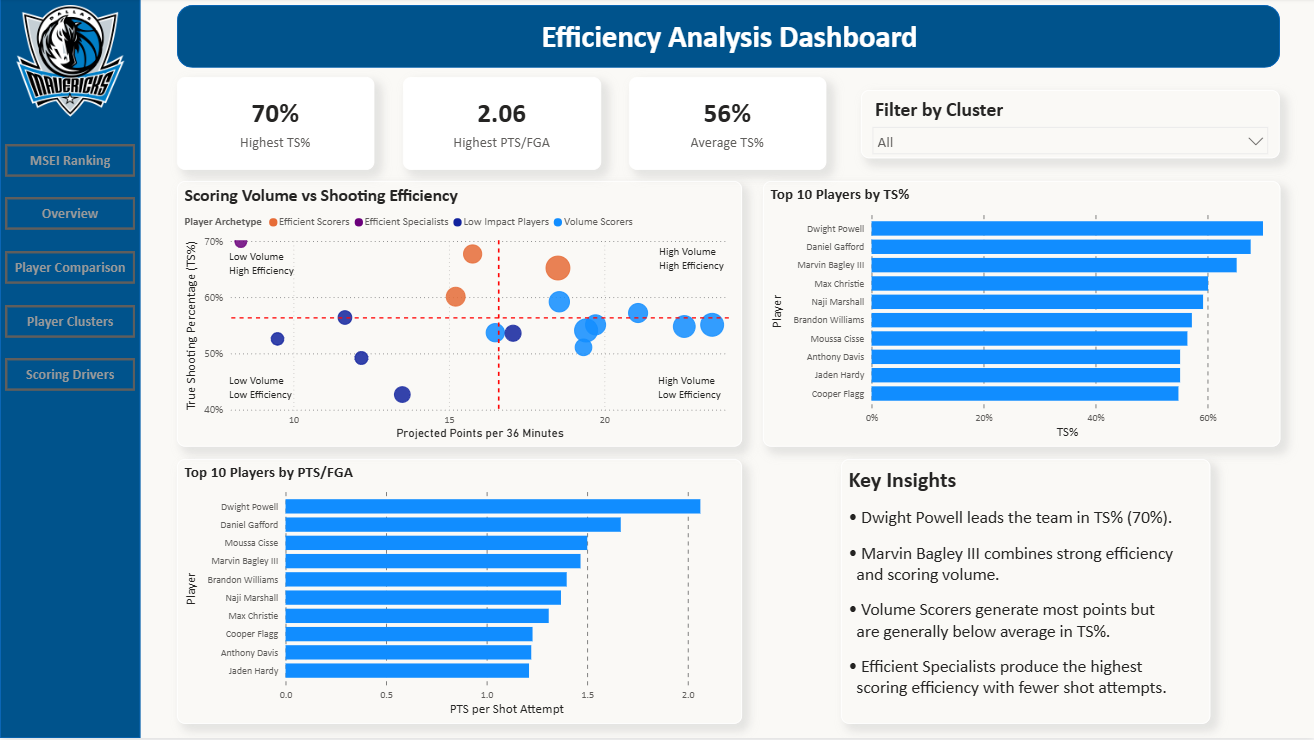

The page's visual inventory and layout, read from the dashboard file:
{"tool":"powerbi","page":{"name":"Efficiency Analysis","canvas":[1600,900],"ordinal":2},"visuals":[{"type":"shape","box":[0,0,170.7,900],"z":0},{"type":"image","box":[5.5,8.9,158.5,136.3],"z":1000},{"type":"actionButton","box":[5.5,177.3,158.5,39.9],"z":2000},{"type":"actionButton","box":[5.5,242.5,158.5,39.9],"z":3000},{"type":"actionButton","box":[5.5,307.6,158.5,39.9],"z":4000},{"type":"actionButton","box":[5.5,372.7,158.5,39.9],"z":5000},{"type":"actionButton","box":[5.5,437.8,158.5,39.9],"z":6000},{"type":"shape","box":[215,8.9,1341.1,76.5],"z":7000},{"type":"textbox","box":[227.2,17.7,1319,59.9],"z":8000},{"type":"cardVisual","fields":{"Data":["mavericks_scoring_efficiency_dashboard.Highest TS%"]},"box":[215.2,96,239.5,113.1],"z":9000},{"type":"cardVisual","fields":{"Data":["mavericks_scoring_efficiency_dashboard.Highest PTS/FGA"]},"box":[489.4,96,240.7,113.1],"z":10000},{"type":"cardVisual","fields":{"Data":["mavericks_scoring_efficiency_dashboard.Avg TS%"]},"box":[764.7,96,239.5,113.1],"z":11000},{"type":"scatterChart","title":"Scoring Volume vs Shooting Efficiency","fields":{"X":["Avg(mavericks_scoring_efficiency_dashboard.Projected_PTS_36)"],"Y":["Avg(mavericks_scoring_efficiency_dashboard.TS%)"],"Size":["Sum(mavericks_scoring_efficiency_dashboard.MSEI)"],"Series":["mavericks_scoring_efficiency_dashboard.Cluster_Name"],"Category":["mavericks_scoring_efficiency_dashboard.Player"]},"box":[215.2,222.5,686.9,323.4],"z":12000},{"type":"textbox","box":[796.4,293,90,54.7],"z":13000},{"type":"textbox","box":[795.1,449.8,90,54.7],"z":14000},{"type":"textbox","box":[273.6,449.8,90,54.7],"z":15000},{"type":"textbox","box":[273.6,299.1,90,54.7],"z":16000},{"type":"clusteredBarChart","title":"Top 10 Players by TS%","fields":{"Category":["mavericks_scoring_efficiency_dashboard.Player"],"Y":["Sum(mavericks_scoring_efficiency_dashboard.TS%)"]},"box":[927.7,222.5,628.6,323.4],"z":17000},{"type":"clusteredBarChart","title":"Top 10 Players by PTS/FGA","fields":{"Category":["mavericks_scoring_efficiency_dashboard.Player"],"Y":["Sum(mavericks_scoring_efficiency_dashboard.PTS_per_FGA)"]},"box":[215.2,560.5,686.9,322.2],"z":18000},{"type":"textbox","box":[1022.5,560.5,448.6,322.2],"z":19000},{"type":"slicer","fields":{"Values":["mavericks_scoring_efficiency_dashboard.Cluster_Name"]},"box":[1046.8,111.9,509.4,82.7],"z":20000}]}

Visuals, with their boxes in screenshot pixels (x1, y1, x2, y2), scaled from the page's 1600x900 canvas onto the 1314x740 screenshot:
shape: Rect(0, 0, 140, 739)
image: Rect(5, 7, 135, 119)
actionButton: Rect(5, 146, 135, 179)
actionButton: Rect(5, 199, 135, 232)
actionButton: Rect(5, 253, 135, 286)
actionButton: Rect(5, 306, 135, 339)
actionButton: Rect(5, 360, 135, 393)
shape: Rect(177, 7, 1278, 70)
textbox: Rect(187, 15, 1270, 64)
cardVisual - mavericks_scoring_efficiency_dashboard.Highest TS%: Rect(177, 79, 373, 172)
cardVisual - mavericks_scoring_efficiency_dashboard.Highest PTS/FGA: Rect(402, 79, 600, 172)
cardVisual - mavericks_scoring_efficiency_dashboard.Avg TS%: Rect(628, 79, 825, 172)
"Scoring Volume vs Shooting Efficiency" scatterChart: Rect(177, 183, 741, 449)
textbox: Rect(654, 241, 728, 286)
textbox: Rect(653, 370, 727, 415)
textbox: Rect(225, 370, 299, 415)
textbox: Rect(225, 246, 299, 291)
"Top 10 Players by TS%" clusteredBarChart: Rect(762, 183, 1278, 449)
"Top 10 Players by PTS/FGA" clusteredBarChart: Rect(177, 461, 741, 726)
textbox: Rect(840, 461, 1208, 726)
slicer - mavericks_scoring_efficiency_dashboard.Cluster_Name: Rect(860, 92, 1278, 160)
